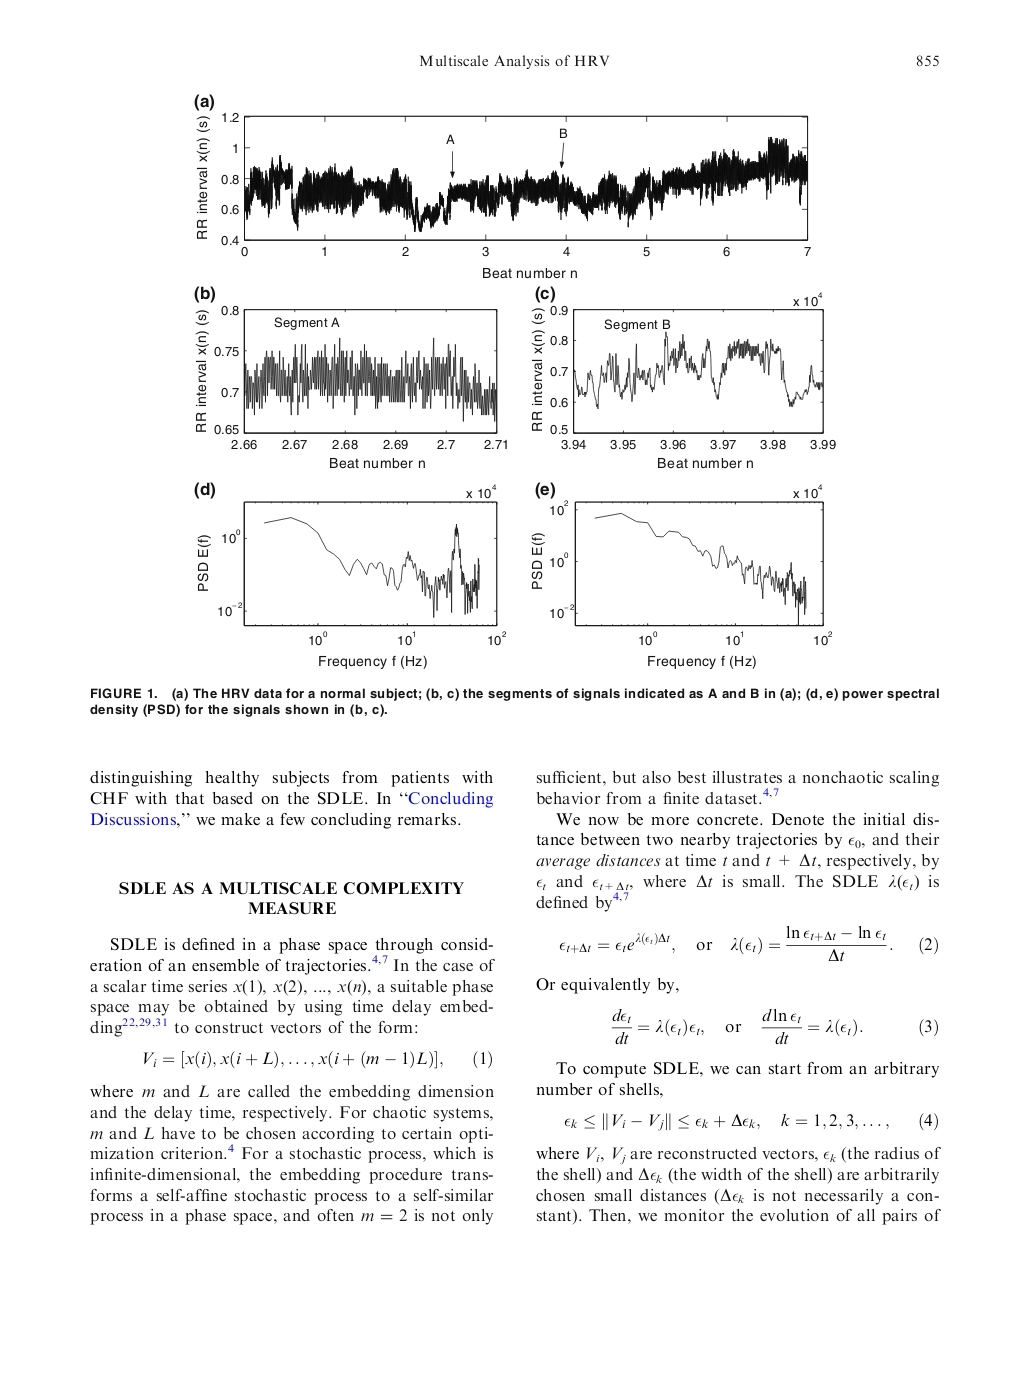figure: (196, 109, 810, 278), (194, 481, 505, 668), (531, 481, 831, 668), (531, 286, 835, 468), (195, 302, 506, 468)
formula: (559, 925, 937, 962), (611, 1008, 937, 1045), (564, 1112, 937, 1131), (143, 1049, 491, 1069)
